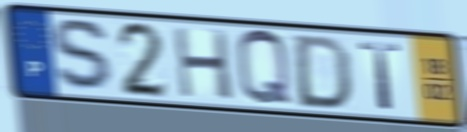2: (116, 20, 170, 101)
D: (294, 33, 354, 112)
H: (170, 25, 237, 103)
Q: (233, 26, 296, 109)
S: (48, 16, 120, 96)
T: (356, 40, 406, 113)
